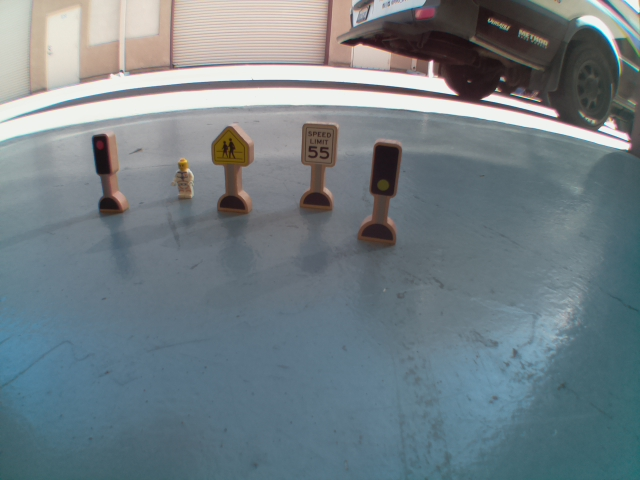Green Traffic Light: (368, 136, 401, 199)
Red Traffic Light: (88, 129, 117, 178)
Speed Limit 55: (298, 120, 338, 169)
YIELD: (208, 125, 254, 168)
person: (167, 157, 201, 200)
